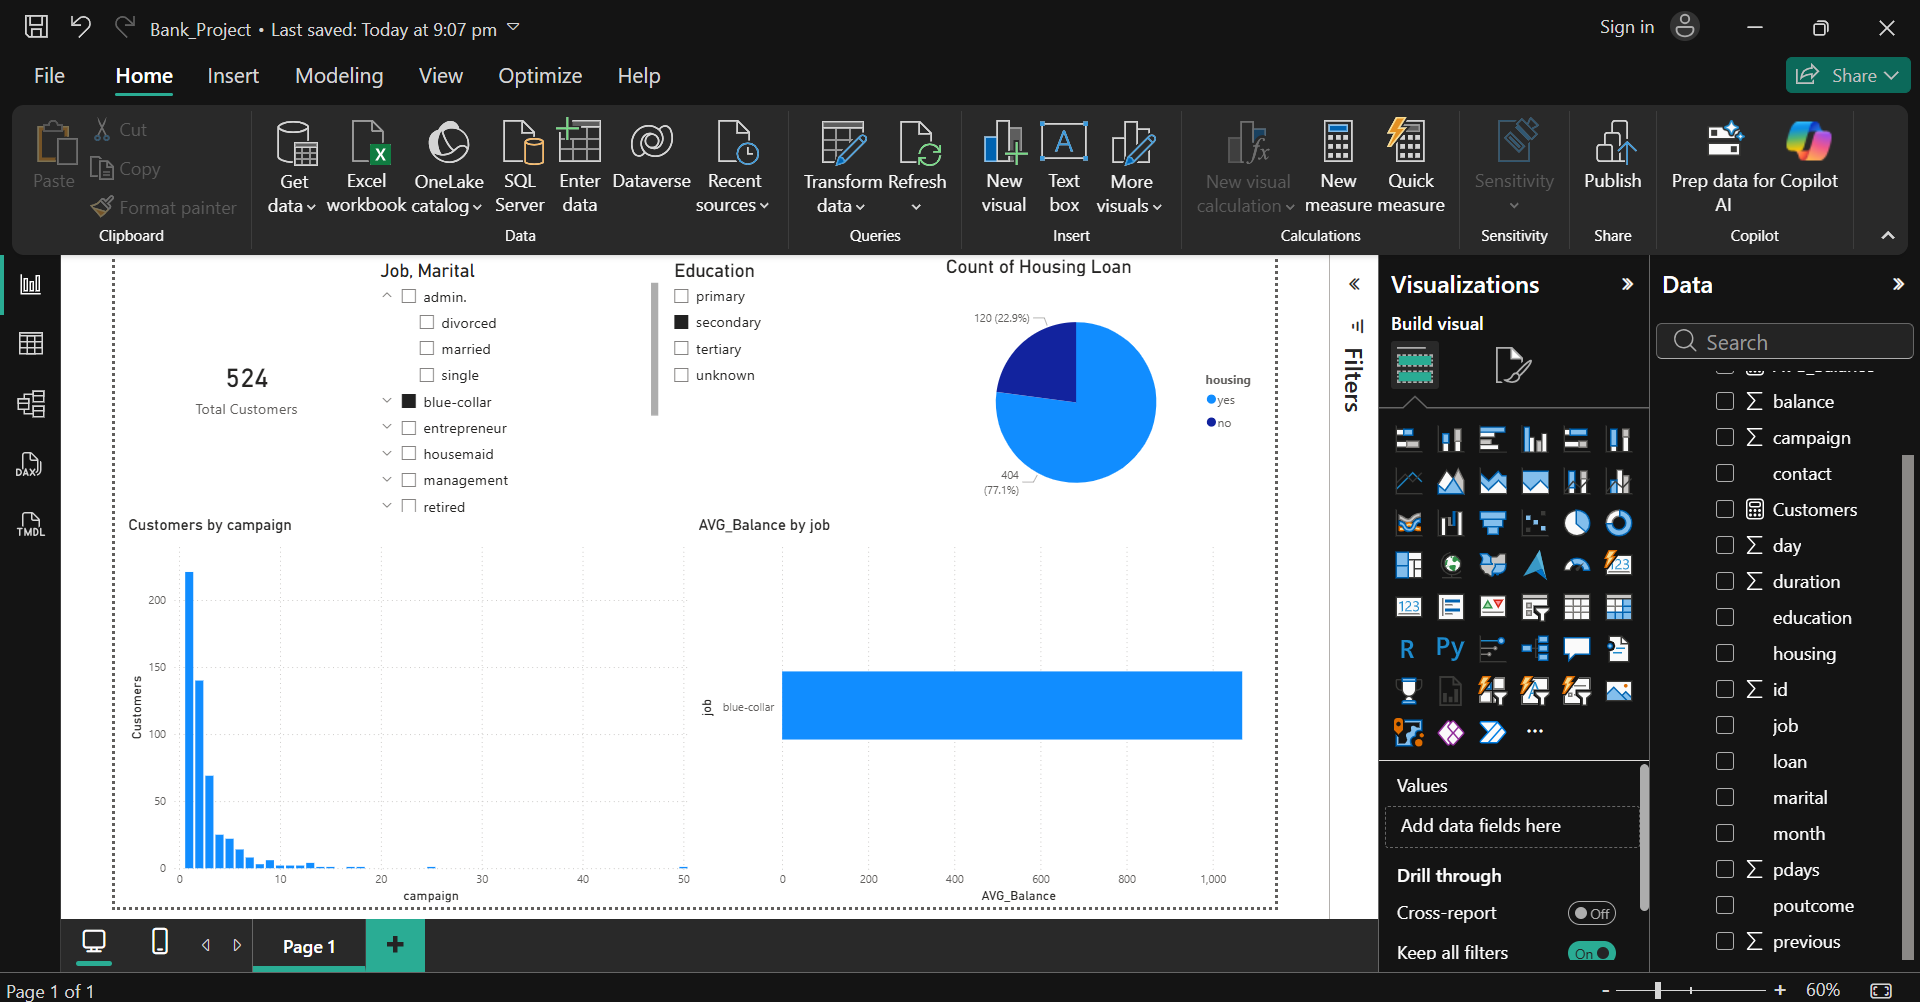

The dashboard page shown, as its layout file describes it:
{"tool":"powerbi","page":{"name":"Page 1","canvas":[1280,720],"ordinal":0},"visuals":[{"type":"card","fields":{"Values":["CountNonNull(bank_project bank_marketing.contact)"]},"box":[9.9,0,270,288.2],"z":0},{"type":"barChart","fields":{"Category":["bank_project bank_marketing.job"],"Y":["bank_project bank_marketing.AVG_Balance"]},"box":[640,288.3,640,431.7],"z":1000},{"type":"clusteredColumnChart","fields":{"Category":["bank_project bank_marketing.campaign"],"Y":["bank_project bank_marketing.coustCustomers"]},"box":[10,288.3,630,431.7],"z":2000},{"type":"pieChart","title":"Count of Housing Loan","fields":{"Category":["bank_project bank_marketing.housing"],"Y":["CountNonNull(bank_project bank_marketing.age)"]},"box":[913.3,0,366.7,301.7],"z":3000},{"type":"slicer","fields":{"Values":["bank_project bank_marketing.job","bank_project bank_marketing.marital"]},"box":[279.9,0,324.7,288.2],"z":3001},{"type":"slicer","fields":{"Values":["bank_project bank_marketing.education"]},"box":[604.6,0,308.1,288.2],"z":3002}]}

Visuals, with their boxes on the page's 1280x720 design canvas (x1, y1, x2, y2). These are canvas units, not pixel positions in the 1920x1002 screenshot, which may show the page scaled, cropped or inside an application window:
card - CountNonNull(bank_project bank_marketing.contact): (left=10, top=0, right=280, bottom=288)
barChart - bank_project bank_marketing.job x bank_project bank_marketing.AVG_Balance: (left=640, top=288, right=1280, bottom=720)
clusteredColumnChart - bank_project bank_marketing.campaign x bank_project bank_marketing.coustCustomers: (left=10, top=288, right=640, bottom=720)
"Count of Housing Loan" pieChart: (left=913, top=0, right=1280, bottom=302)
slicer - bank_project bank_marketing.job x bank_project bank_marketing.marital: (left=280, top=0, right=605, bottom=288)
slicer - bank_project bank_marketing.education: (left=605, top=0, right=913, bottom=288)
